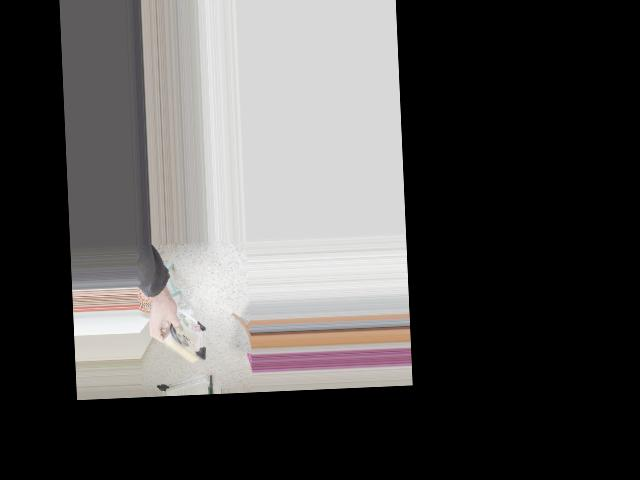cheese: (144, 310, 224, 378)
